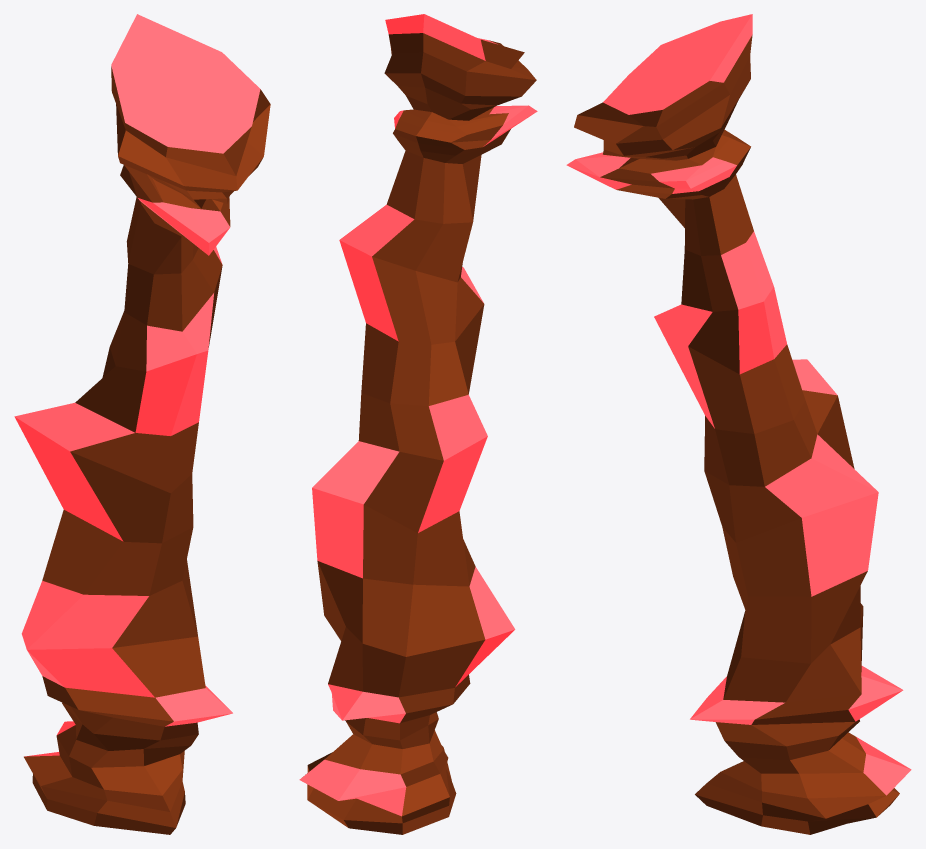
The model's file is Hell Pillar.fbx.
3 renders of one model, left to right at view 1: azimuth 30°, elevation 25°; view 2: azimuth 150°, elevation 25°; view 3: azimuth 270°, elevation 25°, orthographic. The views are drawn at different scales.
Visible parts, largest first — view 1: Hell Pillar.001; view 2: Hell Pillar.001; view 3: Hell Pillar.001.
Part boxes in pixels (x1,y1,x2,y2): Hell Pillar.001: [14, 14, 270, 834]; Hell Pillar.001: [299, 14, 537, 834]; Hell Pillar.001: [566, 14, 911, 834].
Size of the model in its own units: 494 by 1242 by 304.
